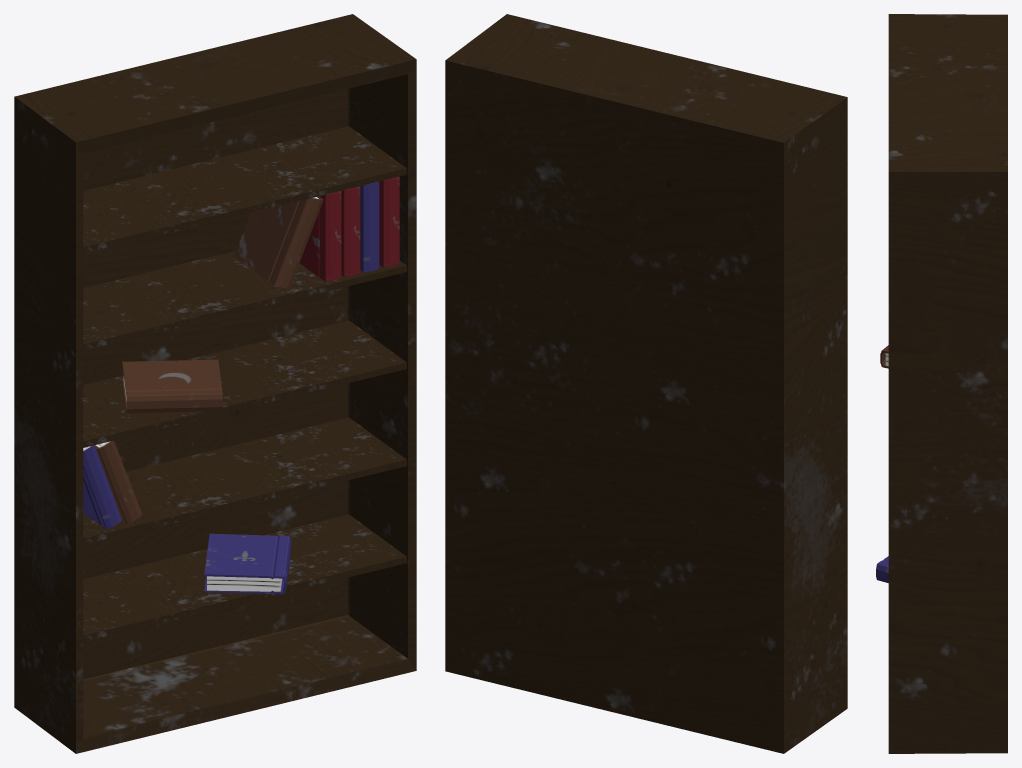
Rendered from book.fbx.
3 renders of one model, left to right at view 1: azimuth 30°, elevation 25°; view 2: azimuth 150°, elevation 25°; view 3: azimuth 270°, elevation 25°, orthographic. The views are drawn at different scales.
Parts seen in each view (by area): view 1: polySurface6, polySurface5, polySurface2, polySurface1, polySurface3, polySurface4, BOOK3 (×2), BOOK (×2), BOOK4, BOOK2 (×2), BOOK1 (×2); view 2: polySurface6; view 3: polySurface6, BOOK3.
Part boxes in pixels (x1,y1,x2,y2): polySurface6: (14,14,416,753); polySurface5: (83,126,406,253); polySurface2: (83,417,406,544); polySurface1: (83,514,406,641); polySurface3: (83,320,406,447); polySurface4: (83,251,406,350); BOOK3 (×2): (204,191,341,594); BOOK (×2): (122,176,399,413); BOOK4: (234,196,323,288); BOOK2 (×2): (83,186,360,528); BOOK1 (×2): (94,181,379,523); polySurface6: (445,14,847,753); polySurface6: (888,14,1007,753); BOOK3: (876,556,888,582).
Bounding box in the file's own units: 10.16 × 17.43 × 3.58.
Materials: 2 (2 with a texture image).
